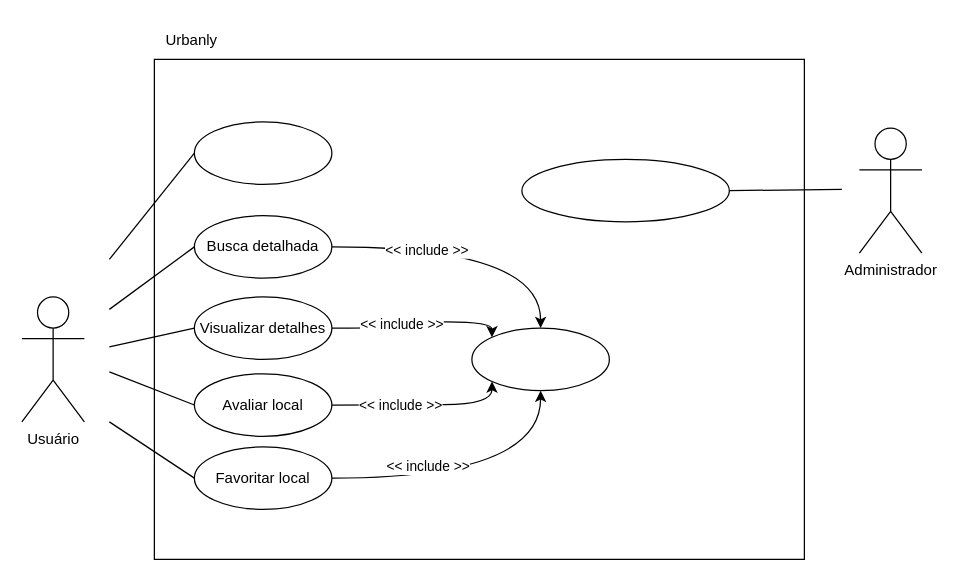
This 959x581 diagram has some shape labels left out. The shapes that lost their labels are listed below. From the top down, each one's centre as x and y in pixels, then its label:
(262,152): Busca simples
(625,190): Gerenciar estabelecimentos
(540,359): Autenticar
